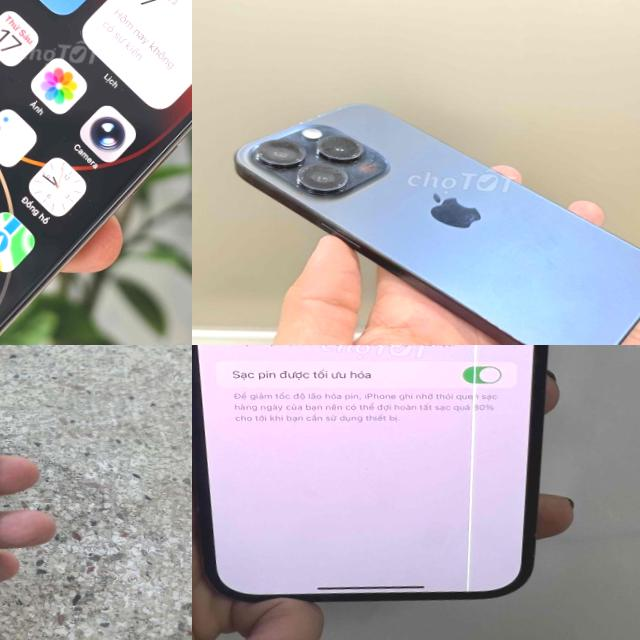gen_12_13: (192, 345, 578, 623)
gen_14: (0, 0, 192, 345)
gen_15: (215, 83, 640, 345)
